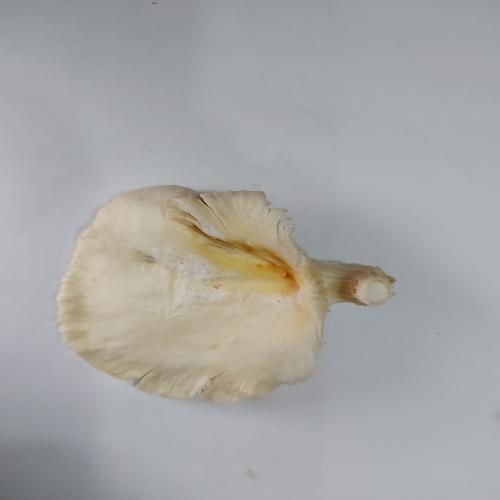Oyster Mushroom: (55, 184, 396, 405)
